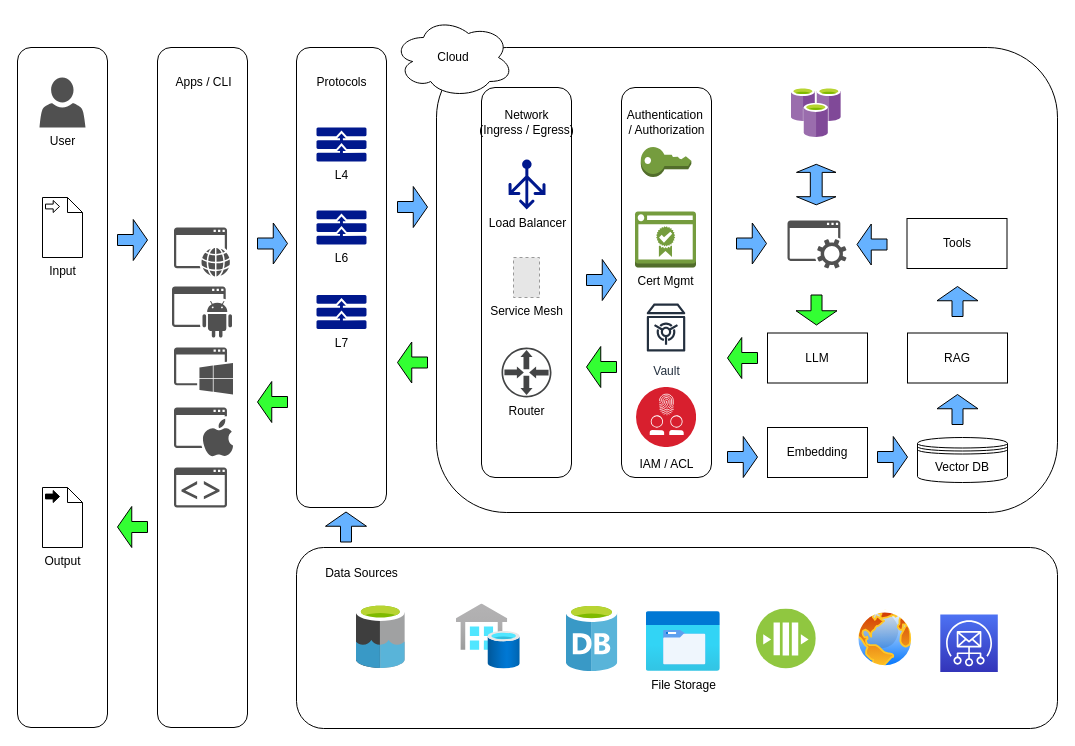
The diagram is 1075 pixels wide and 746 high, and some of its shapes have lost their labels. Grey dashed boxes stand in for pictures. Here are the shapes that lost their labels. From the top down, the box of each, then its label:
(791, 87, 841, 137): Memory
(640, 146, 691, 177): JWT
(787, 220, 846, 268): Agent
(356, 603, 405, 668): Data Lake
(456, 603, 520, 668): Data Warehouse
(566, 603, 617, 671): Database
(756, 608, 816, 668): Message Bus
(855, 609, 914, 668): Internet
(939, 614, 998, 672): emails
